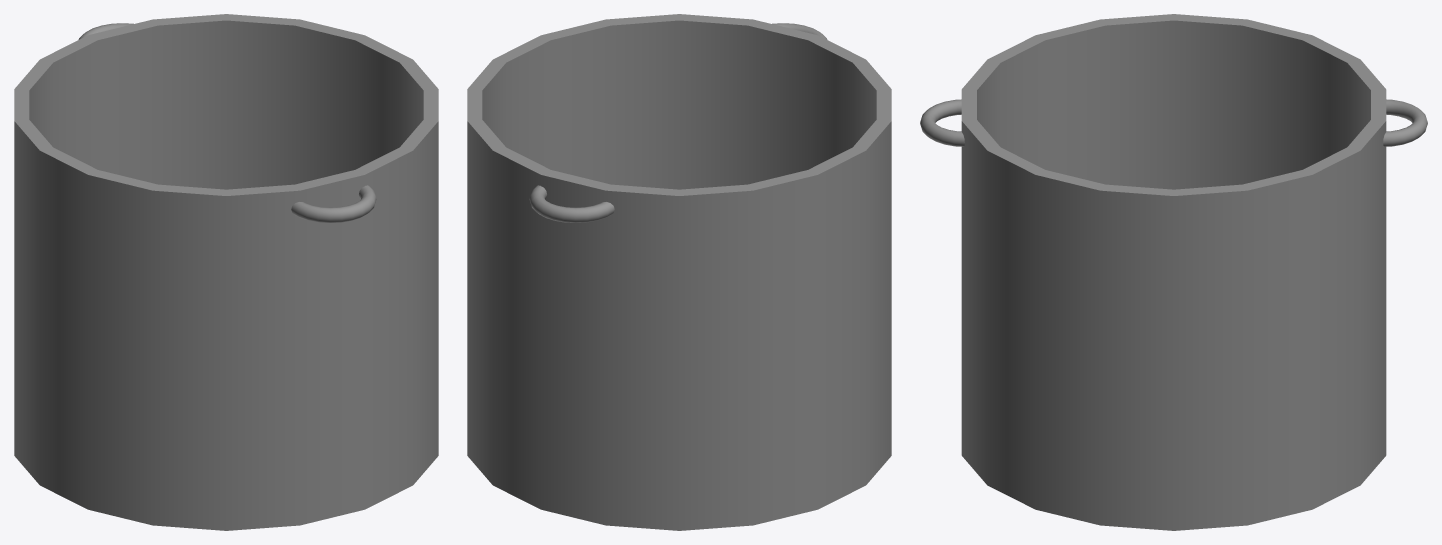
File: Pot.fbx
3 renders of one model, left to right at view 1: azimuth 30°, elevation 25°; view 2: azimuth 150°, elevation 25°; view 3: azimuth 270°, elevation 25°, orthographic.
Parts seen in each view (by area): view 1: Pot; view 2: Pot; view 3: Pot.
Boxes of the visible parts, x1,y1,x2,y2 form: Pot: (14, 14, 438, 530); Pot: (467, 14, 891, 530); Pot: (920, 14, 1427, 530).
Size of the model in its own units: 21.87 by 18.74 by 25.77.
1 material, 1 textured.
